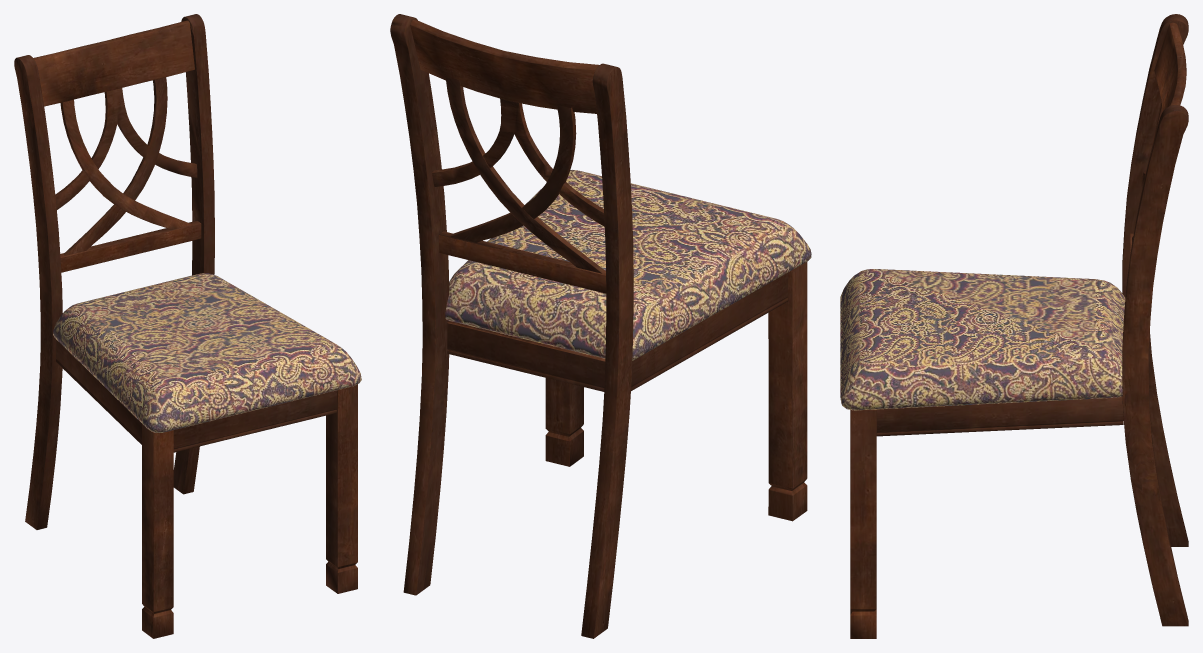
The model's file is B00EUL2B16.glb.
The picture shows the model from 3 angles, left to right: view 1: azimuth 30°, elevation 25°; view 2: azimuth 150°, elevation 25°; view 3: azimuth 270°, elevation 25°; orthographic projection. The views are drawn at different scales.
Visible parts, largest first — view 1: B00EUL2B16; view 2: B00EUL2B16; view 3: B00EUL2B16.
Boxes of the visible parts, x1,y1,x2,y2 form: B00EUL2B16: (14, 14, 361, 638); B00EUL2B16: (390, 14, 811, 638); B00EUL2B16: (840, 14, 1188, 638).
Bounding box in the file's own units: 0.4572 × 0.9652 × 0.5841.
Materials: 1 (1 with a texture image).
